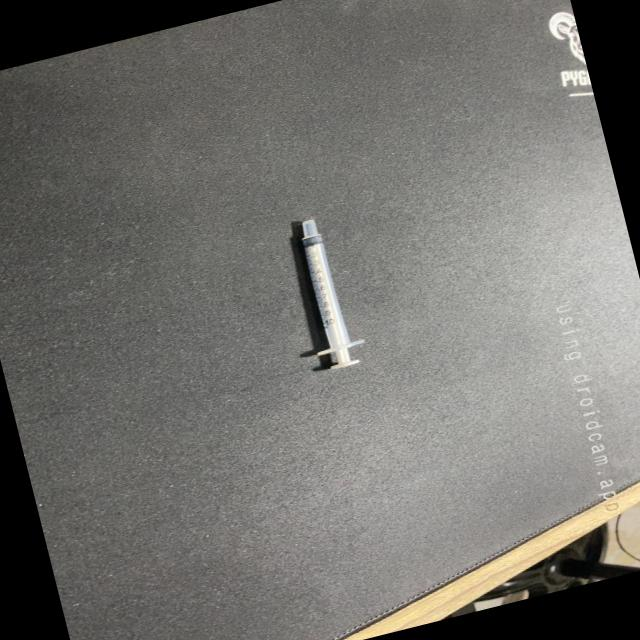syringe: (266, 204, 379, 381)
